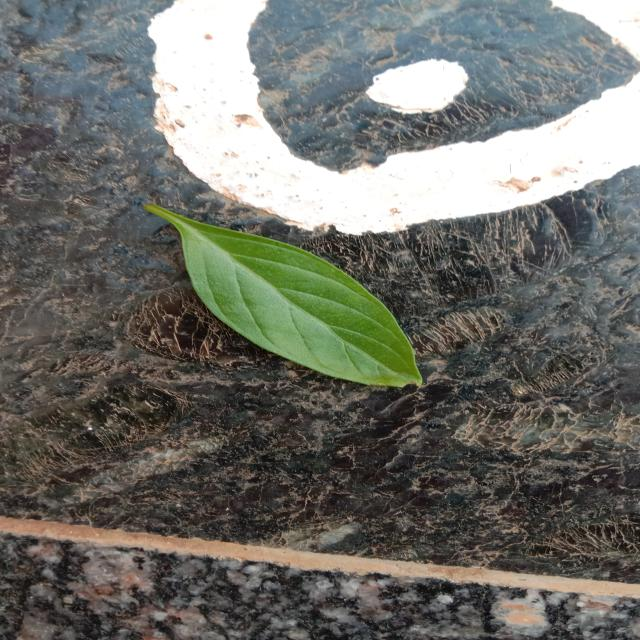kamakasturi: (144, 204, 422, 388)
